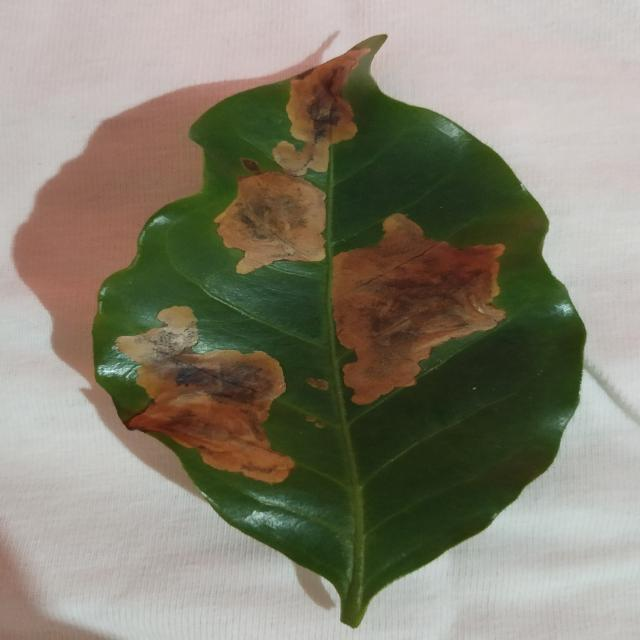Plaga-Minador: (92, 35, 588, 625)
